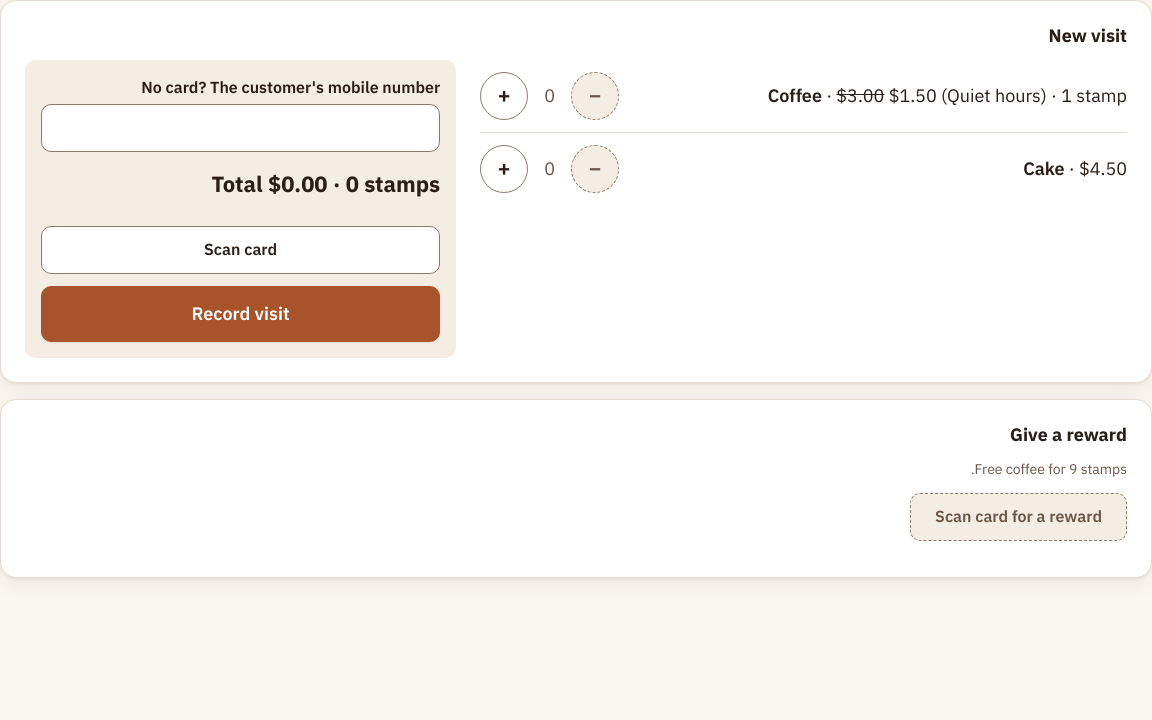
Test: visits › gives a running campaign's discount, and records the visit as priced on screen even if the campaign ends before the tap (AC 35)
The width and height of the screenshot is (1152, 720).
Expected: the text "$1.50 (Quiet hours)" is shown, [768,82,1127,108]
Click the button named "One more Coffee": (504, 96) [480,72,528,120]
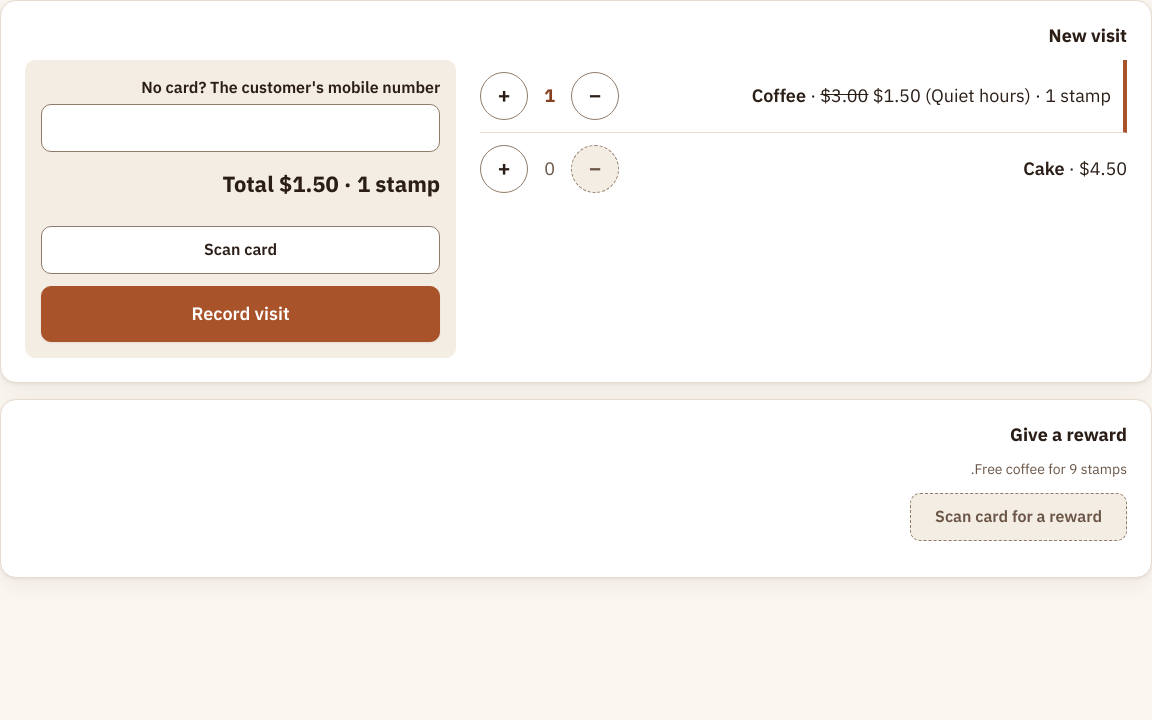
Click the button named "One more Coffee": (504, 96) [480,72,528,120]
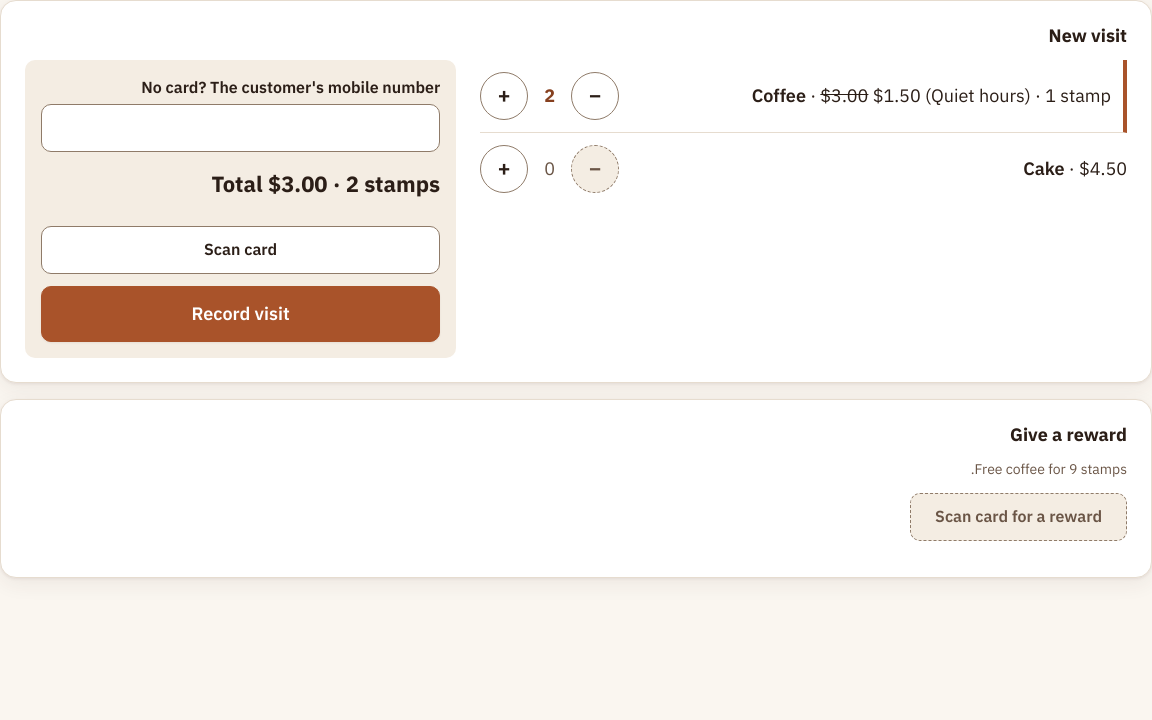
Click the button named "One more Cake": (504, 168) [480,144,528,192]
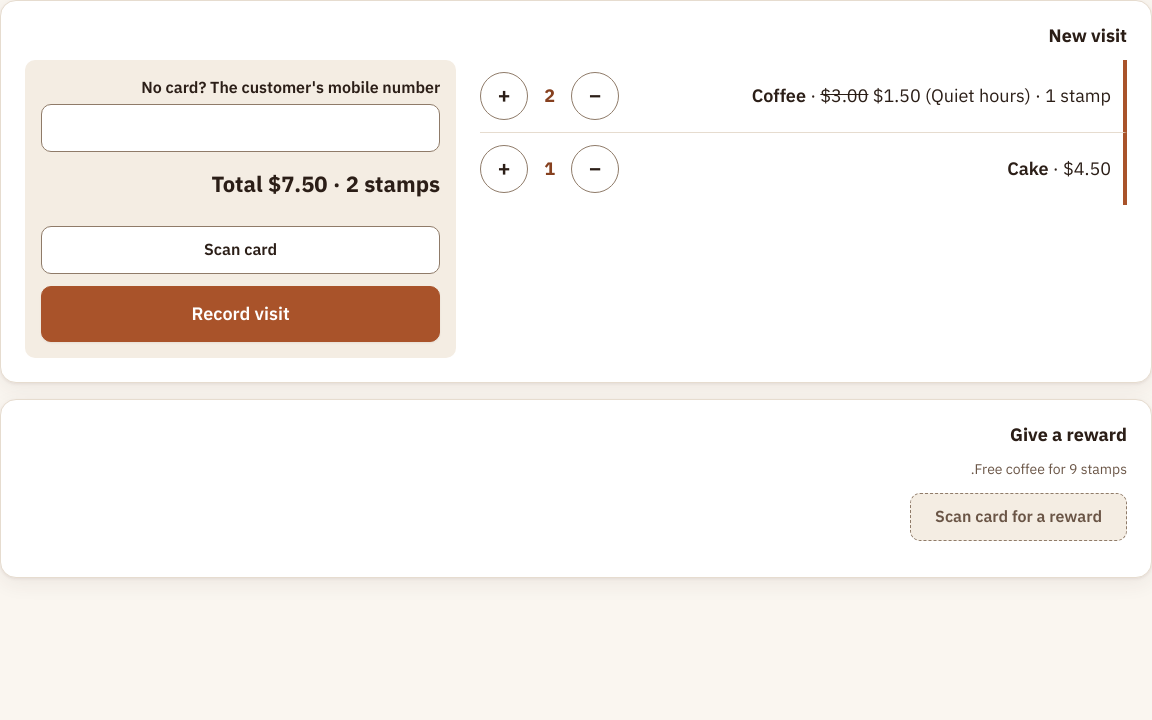
Expected: the text "Total $7.50 · 2 stamps" is shown, [211,168,440,201]
In the field labelled "No card? The customer's mobile number": (241, 128) [41,104,440,152], type "70 123 456"
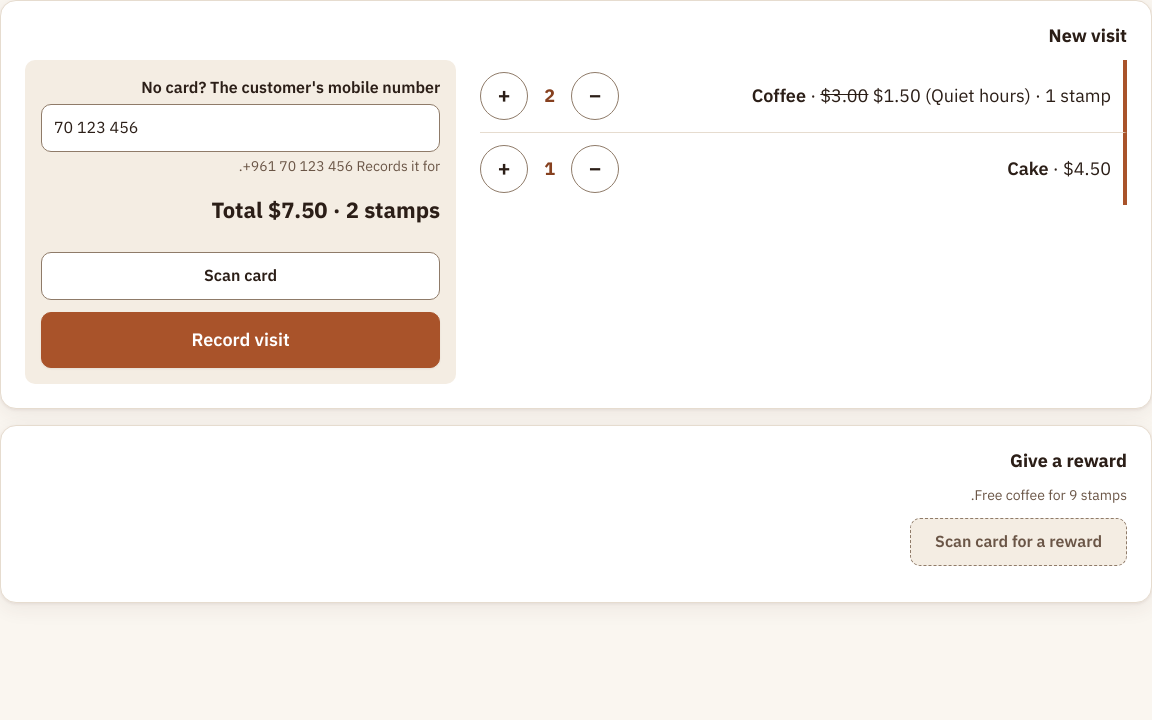
Click the button "Record visit": (241, 340) [41,312,440,368]
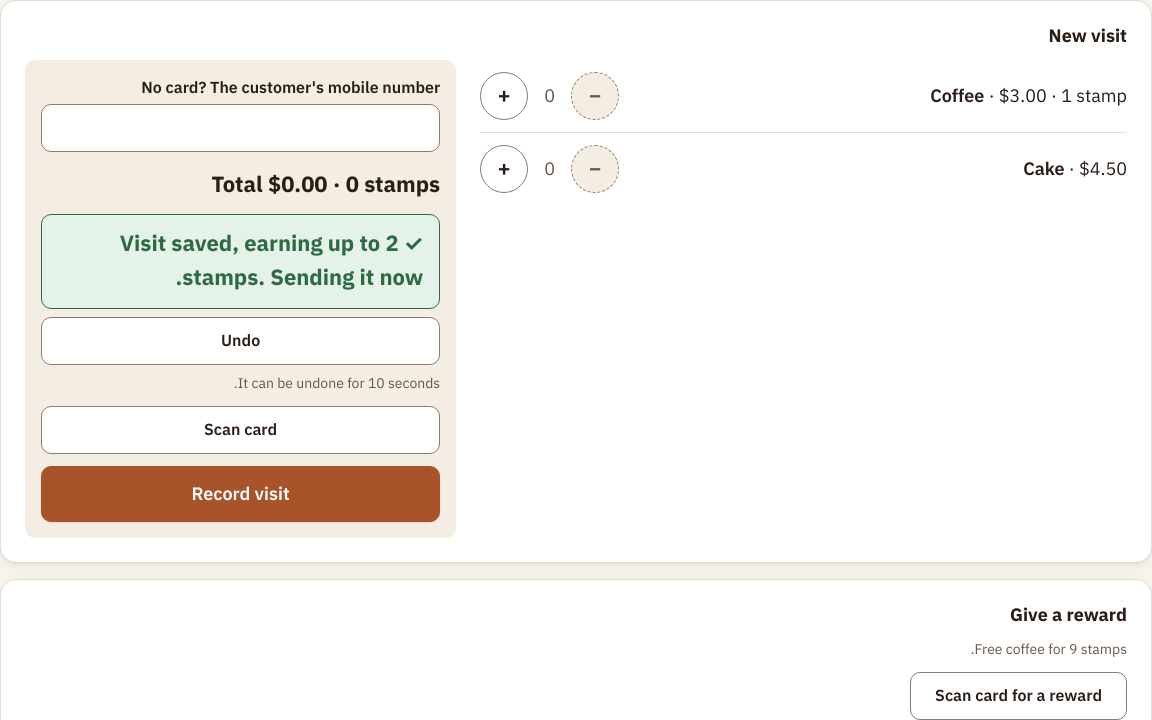
Expected: the text "Visit saved, earning up to 2 stamps. Sending it now." is shown, [41,214,440,309]
